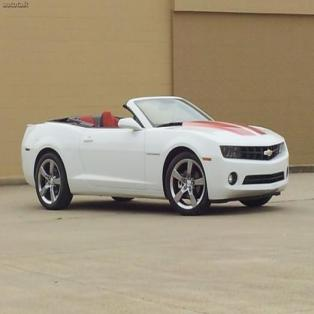Auto: (20, 96, 290, 216)
